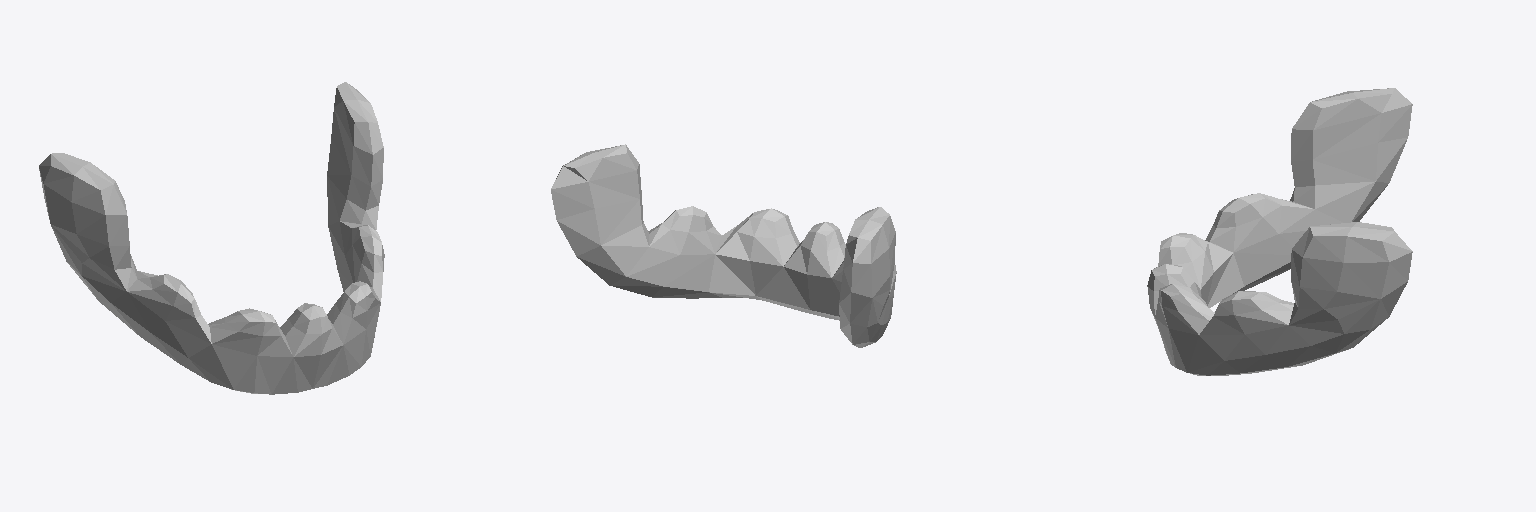
Rendered from character_skeleton_archer_jaw.obj.
The picture shows the model from 3 angles: view 1: azimuth 30°, elevation 25°; view 2: azimuth 150°, elevation 25°; view 3: azimuth 270°, elevation 25°; orthographic projection.
Parts seen in each view (by area): view 1: character_skeleton_archer_jaw_Cube.7659; view 2: character_skeleton_archer_jaw_Cube.7659; view 3: character_skeleton_archer_jaw_Cube.7659.
Boxes of the visible parts, <box> form: character_skeleton_archer_jaw_Cube.7659: <box>39,82,384,394</box>; character_skeleton_archer_jaw_Cube.7659: <box>551,144,896,347</box>; character_skeleton_archer_jaw_Cube.7659: <box>1147,88,1412,375</box>.
Bounding box in the file's own units: 0.5473 × 0.3191 × 0.3982.